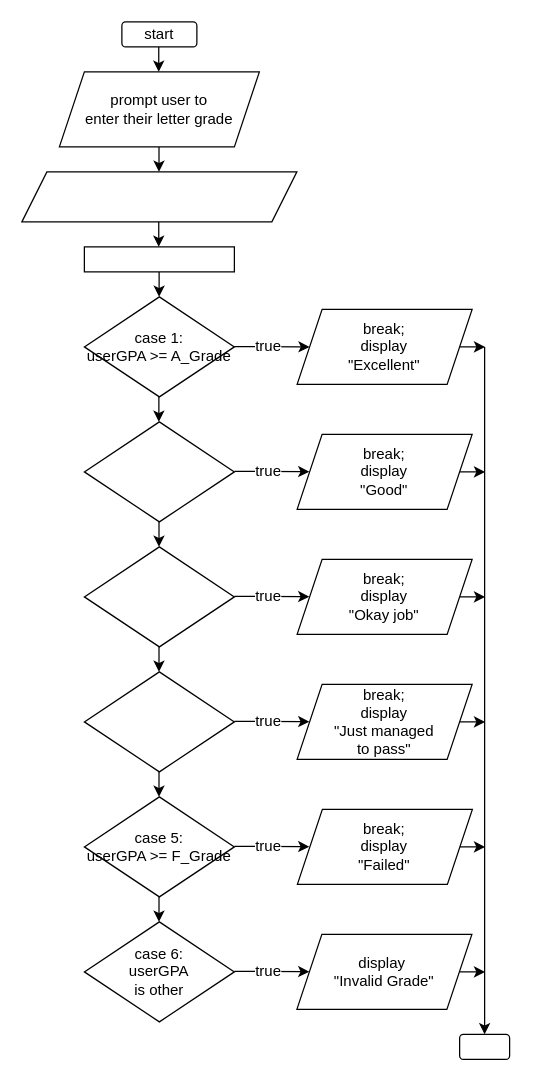
Image size: 533x1081. Some labels were removed from this diagram. Each missing label, with the centre of its shape:
"case 2: userGPA >= B_Grade" goes at point 158,471.
"case 3: userGPA >= C_Grade" goes at point 158,596.
"case 4: userGPA >= D_Grade" goes at point 158,721.
"end" goes at point 484,1046.
"read input and assign the value to userGPA" goes at point 159,196.
"switch statement" goes at point 158,259.
